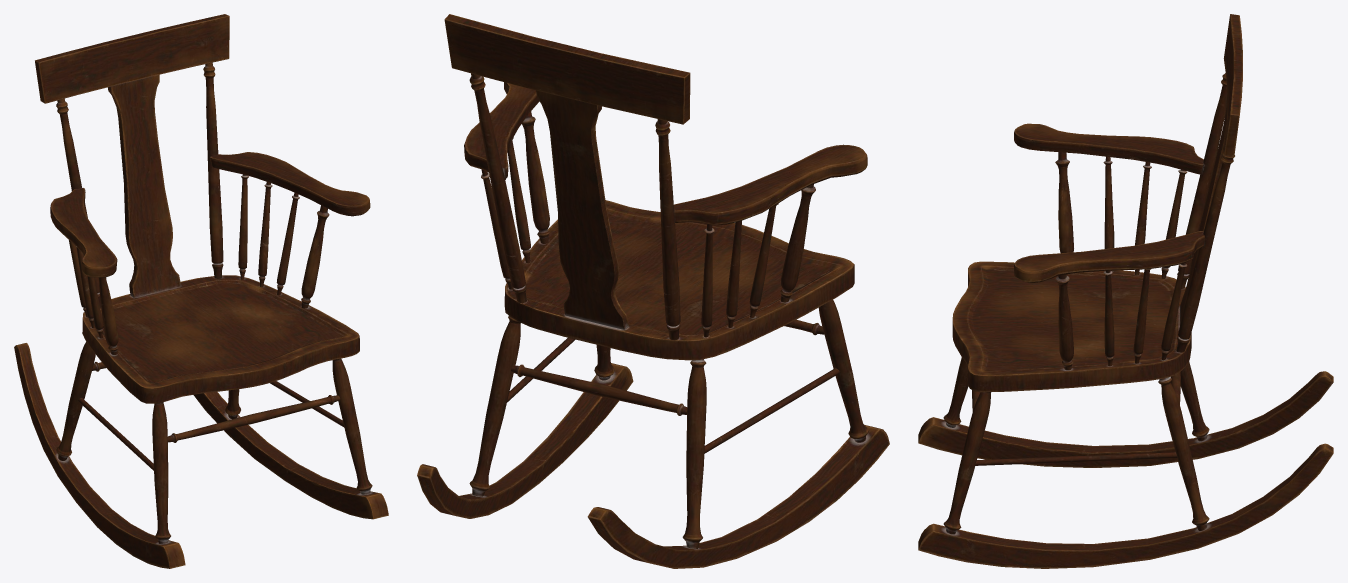
Rendered from Rockingchair_01_lod1.glb.
The picture shows the model from 3 angles, left to right: view 1: azimuth 30°, elevation 25°; view 2: azimuth 150°, elevation 25°; view 3: azimuth 270°, elevation 25°; orthographic projection. The views are drawn at different scales.
Parts seen in each view (by area): view 1: Rockingchair_01; view 2: Rockingchair_01; view 3: Rockingchair_01.
Part boxes in pixels (left/top/right/bottom): Rockingchair_01: left=14, top=14, right=388, bottom=568; Rockingchair_01: left=417, top=14, right=889, bottom=568; Rockingchair_01: left=918, top=14, right=1333, bottom=568.
Bounding box in the file's own units: 0.7081 × 0.9949 × 0.8335.
Materials: 1 (1 with a texture image).
